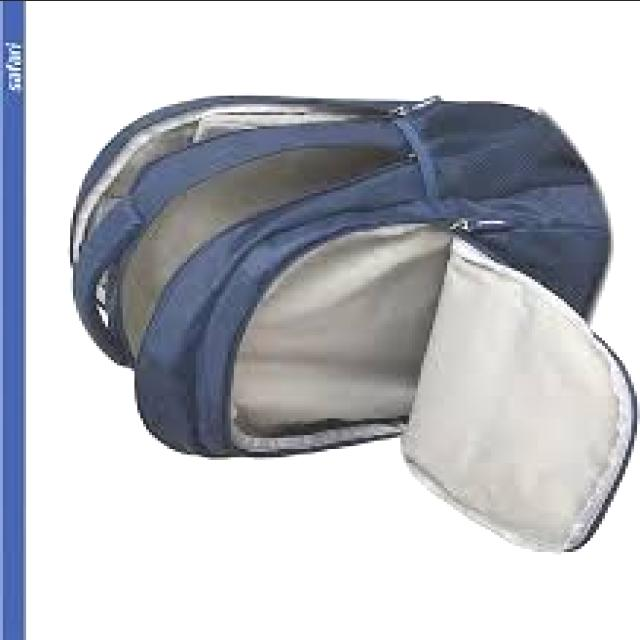backpack: (65, 96, 638, 555)
